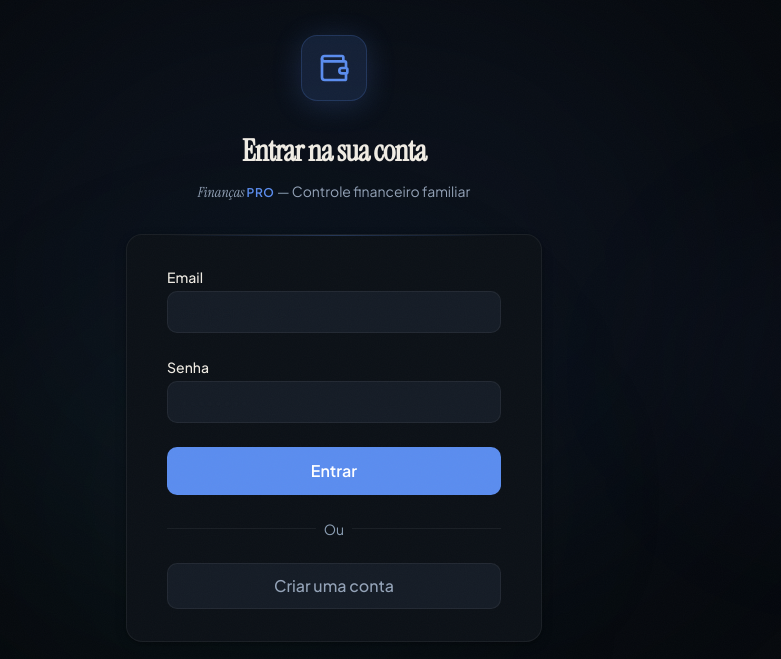
LoginPage › Cadastro (sign-up) › toggle to Cadastro shows sign-up view
What coordinates should you click on to do the following:
click the button "Criar uma conta"
I would click on:
 (334, 586)
Its box is x1=167 y1=562 x2=501 y2=608.
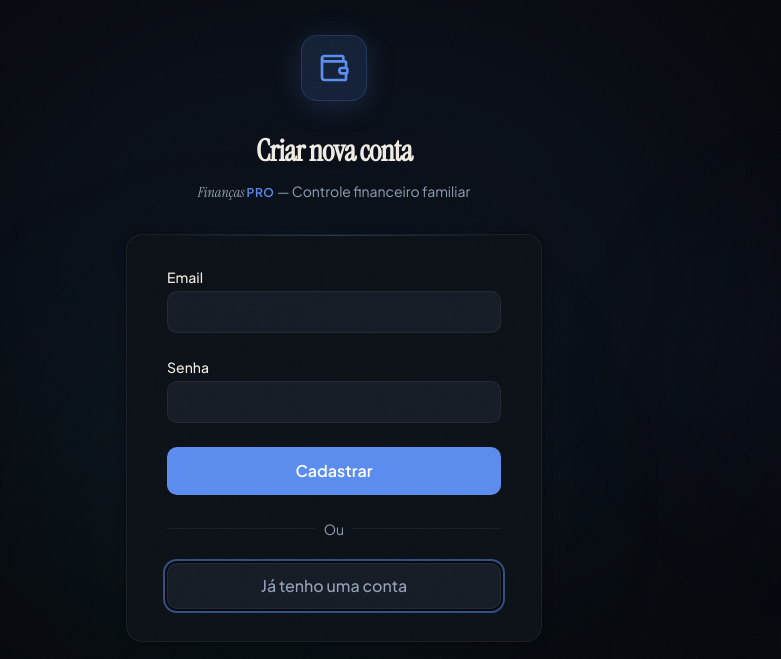
Now the heading "Criar nova conta" is shown, box x1=256 y1=130 x2=412 y2=170
Now the button "Cadastrar" is shown, box x1=167 y1=446 x2=501 y2=494
